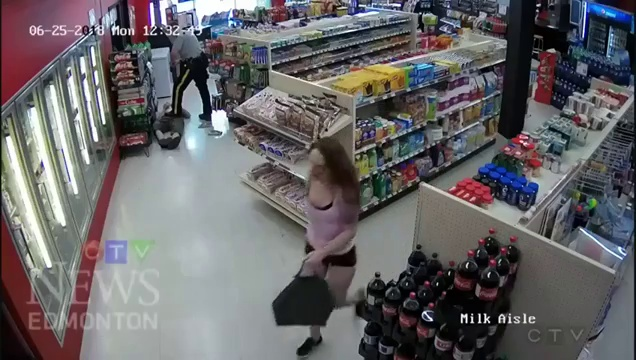face: (312, 146, 336, 181)
